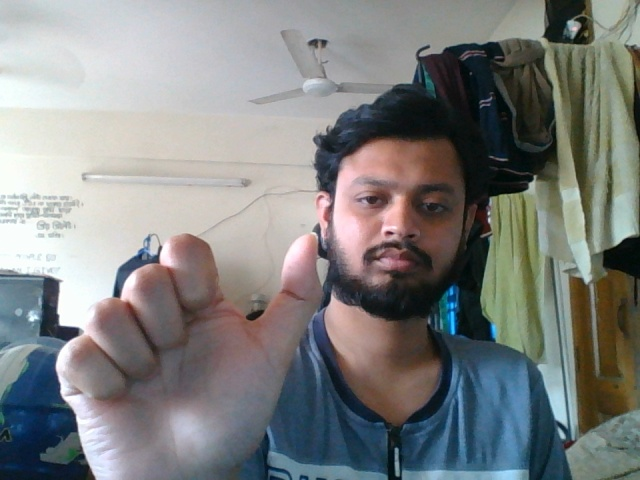dho: (52, 227, 329, 480)
